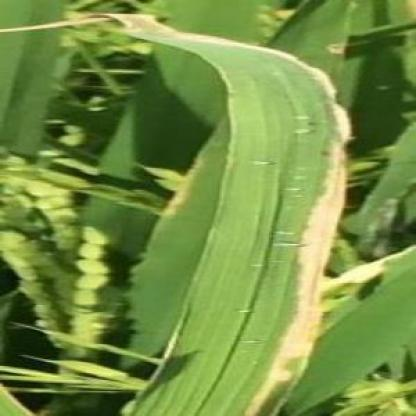Blight: (88, 13, 355, 416)
